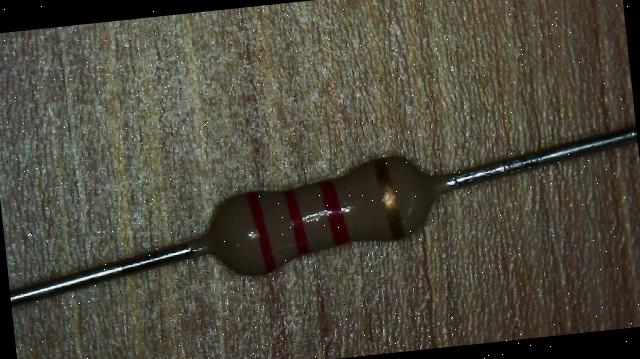gold: (374, 158, 404, 239)
red: (247, 191, 276, 274), (317, 178, 348, 246), (284, 188, 310, 256)
resistor: (176, 129, 457, 304)
